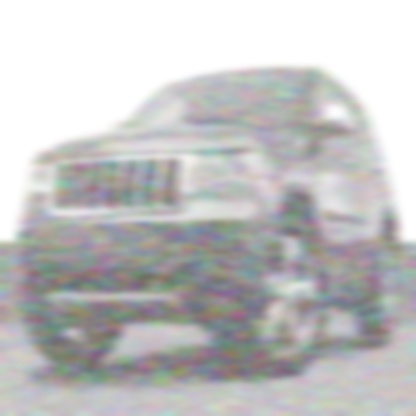Vehicle: (18, 69, 399, 378)
